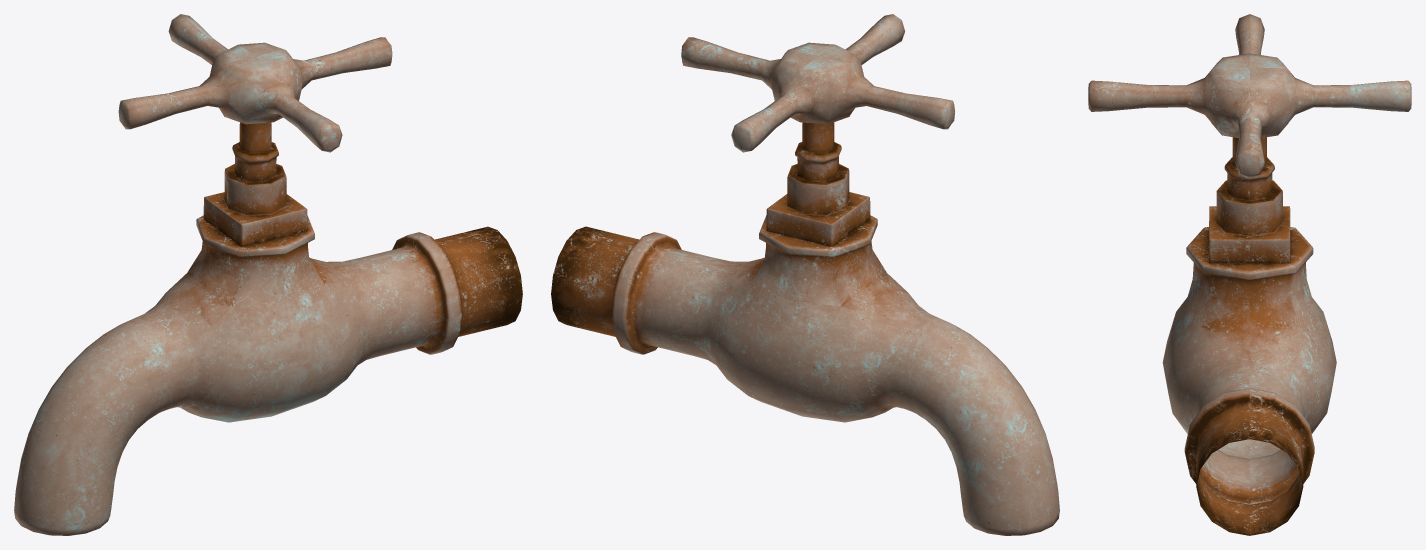
The model's file is oxidized_faucet.glb.
3 views of the same model, side by side, from view 1: azimuth 30°, elevation 25°; view 2: azimuth 150°, elevation 25°; view 3: azimuth 270°, elevation 25° (orthographic). The views are drawn at different scales.
Visible parts, largest first — view 1: LP_Faucet; view 2: LP_Faucet; view 3: LP_Faucet.
Boxes of the visible parts, x1=… form: LP_Faucet: x1=14, y1=14, x2=522, y2=535; LP_Faucet: x1=551, y1=14, x2=1059, y2=535; LP_Faucet: x1=1088, y1=14, x2=1411, y2=535.
Bounding box in the file's own units: 5.92 × 4.9 × 3.28.
Materials: 1 (1 with a texture image).
